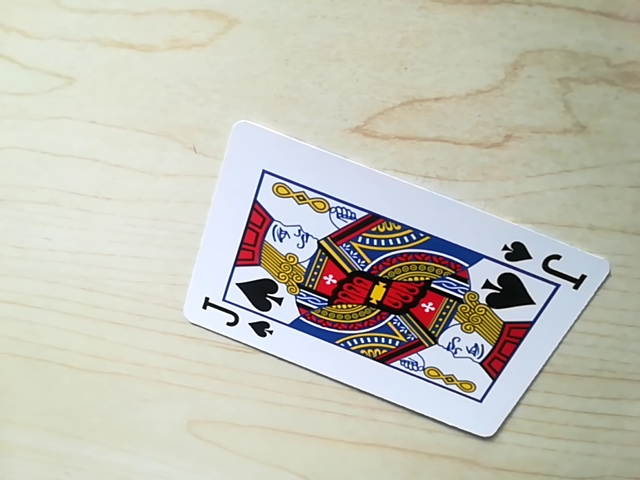ht j: (492, 235, 587, 281), (198, 307, 273, 342)
